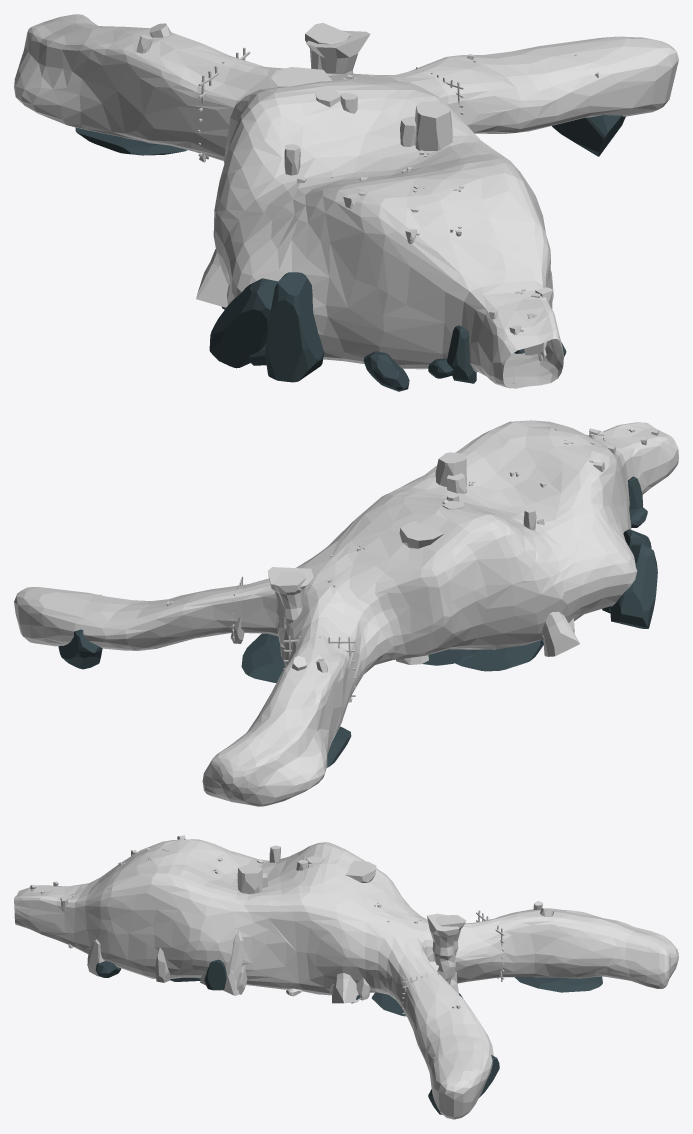
The model's file is Cave.fbx.
3 views of the same model, one above another, from view 1: azimuth 30°, elevation 25°; view 2: azimuth 150°, elevation 25°; view 3: azimuth 270°, elevation 25° (orthographic). The views are drawn at different scales.
Parts seen in each view (by area): view 1: Cave, Stone1.001, Stone1.002, Stone1.005, SpikeStone5.002, Cylinder.010, Stone2.004, Stone4, Stone1, SpikeStone3.001, Cylinder, Cylinder.009; view 2: Cave, Stone1.002, Stone2.003, Stone2.001, SpikeStone3.001, Cylinder.009, Stone1.005, Cylinder, Cylinder.010, SpikeStone5.002, Stone2.002; view 3: Cave, Cylinder.010, Stone2.004, SpikeStone3, SpikeStone5.002, SpikeStone3.002, Stone1.004, Cylinder.009, Cylinder, Stone2.003.
Part boxes in pixels (x1=…): Cave: x1=14, y1=14, x2=678, y2=388; Stone1.001: x1=265, y1=272, x2=324, y2=382; Stone1.002: x1=209, y1=278, x2=278, y2=368; Stone1.005: x1=552, y1=114, x2=625, y2=156; SpikeStone5.002: x1=415, y1=101, x2=452, y2=150; Cylinder.010: x1=306, y1=30, x2=370, y2=73; Stone2.004: x1=75, y1=127, x2=187, y2=155; Stone4: x1=363, y1=351, x2=409, y2=391; Stone1: x1=447, y1=325, x2=476, y2=383; SpikeStone3.001: x1=196, y1=249, x2=228, y2=307; Cylinder: x1=271, y1=67, x2=332, y2=87; Cylinder.009: x1=305, y1=23, x2=351, y2=69; Cave: x1=14, y1=420, x2=678, y2=806; Stone1.002: x1=610, y1=543, x2=657, y2=628; Stone2.003: x1=241, y1=633, x2=284, y2=682; Stone2.001: x1=455, y1=640, x2=543, y2=671; SpikeStone3.001: x1=542, y1=611, x2=579, y2=656; Cylinder.009: x1=273, y1=571, x2=305, y2=667; Stone1.005: x1=58, y1=629, x2=102, y2=669; Cylinder: x1=396, y1=521, x2=443, y2=664; Cylinder.010: x1=267, y1=567, x2=313, y2=663; SpikeStone5.002: x1=435, y1=452, x2=466, y2=486; Stone2.002: x1=422, y1=649, x2=474, y2=665; Cave: x1=14, y1=839, x2=678, y2=1119; Cylinder.010: x1=427, y1=913, x2=458, y2=984; Stone2.004: x1=515, y1=976, x2=602, y2=992; SpikeStone3: x1=222, y1=930, x2=243, y2=995; SpikeStone5.002: x1=237, y1=865, x2=262, y2=893; SpikeStone3.002: x1=332, y1=973, x2=360, y2=1003; Stone1.004: x1=204, y1=959, x2=226, y2=990; Cylinder.009: x1=435, y1=915, x2=466, y2=994; Cylinder: x1=345, y1=860, x2=376, y2=882; Stone2.003: x1=372, y1=992, x2=462, y2=1016.
Bounding box in the file's own units: 4565 × 1604 × 6518.
